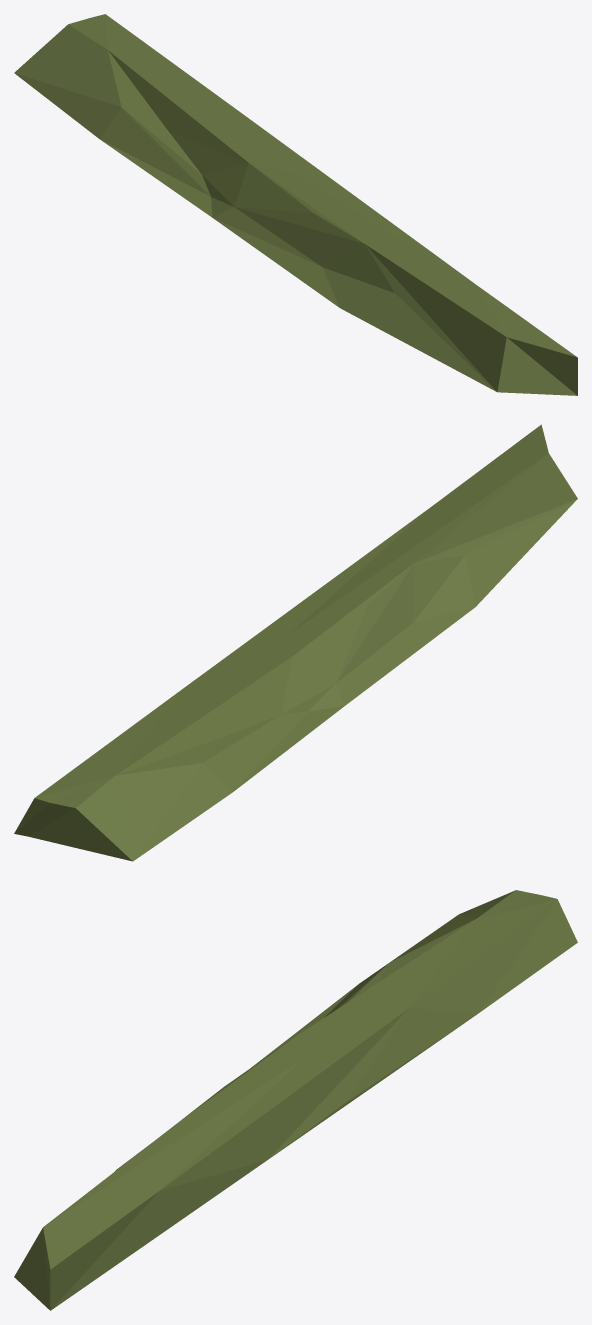
The model's file is ground_54.fbx.
The picture shows the model from 3 angles, top to bottom: view 1: azimuth 30°, elevation 25°; view 2: azimuth 150°, elevation 25°; view 3: azimuth 330°, elevation 25°; orthographic projection. The views are drawn at different scales.
Parts seen in each view (by area): view 1: ground_54; view 2: ground_54; view 3: ground_54.
Part boxes in pixels (box(x1,y1,x2,y2)): ground_54: box(14, 14, 577, 395); ground_54: box(14, 424, 577, 861); ground_54: box(14, 890, 577, 1310).
Bounding box in the file's own units: 1.76 × 0.6651 × 12.74.
